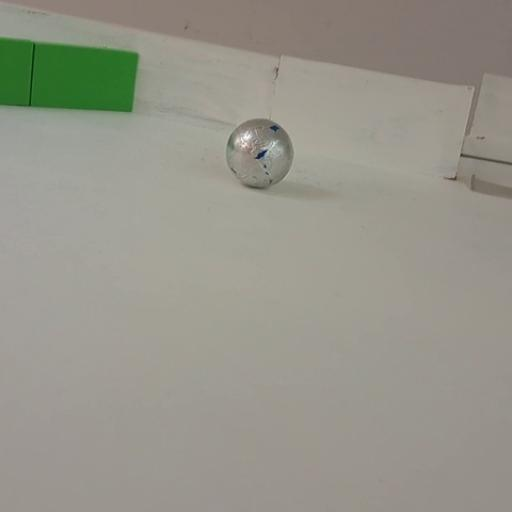alive: (224, 116, 296, 190)
